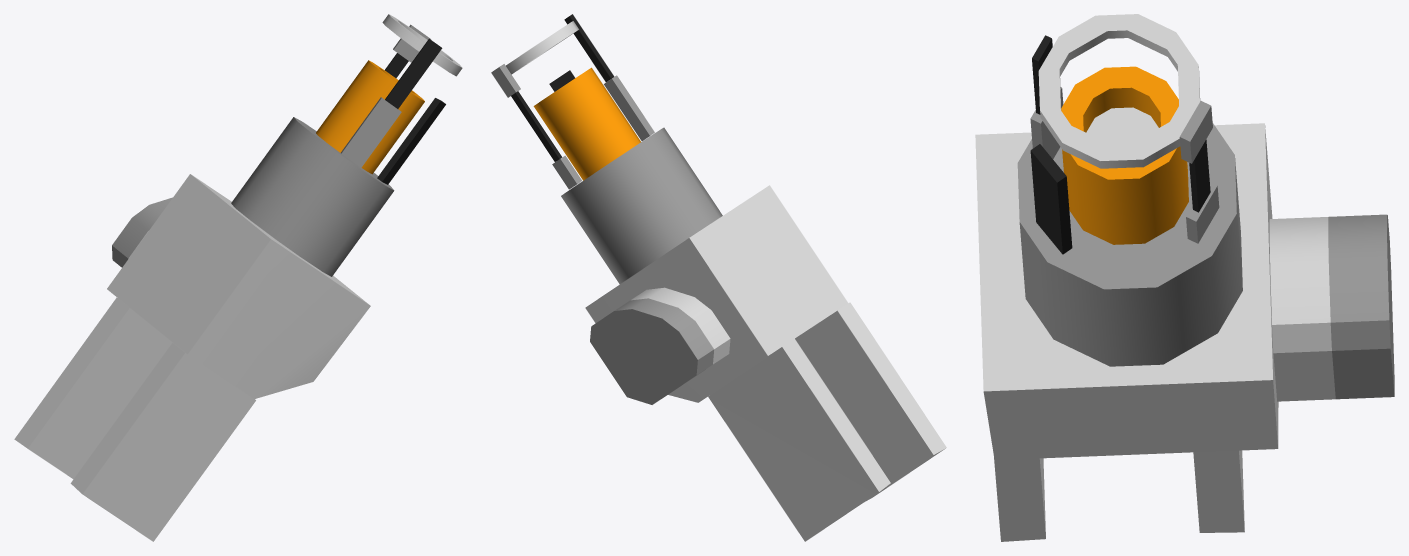
File: rover_pinza.fbx
The picture shows the model from 3 angles, left to right: view 1: azimuth 30°, elevation 25°; view 2: azimuth 150°, elevation 25°; view 3: azimuth 270°, elevation 25°; orthographic projection. The views are drawn at different scales.
Parts seen in each view (by area): view 1: rover_pinza.001; view 2: rover_pinza.001; view 3: rover_pinza.001.
Part boxes in pixels (box(x1,y1,x2,y2)): rover_pinza.001: box(14, 14, 462, 541); rover_pinza.001: box(491, 14, 946, 541); rover_pinza.001: box(975, 14, 1394, 541).
Bounding box in the file's own units: 113 × 114 × 56.34.
